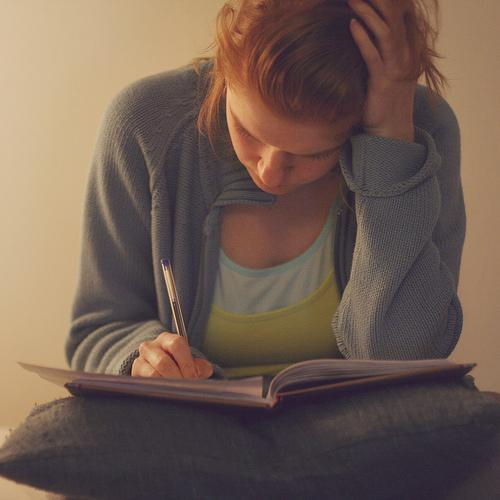person: (68, 4, 467, 386)
